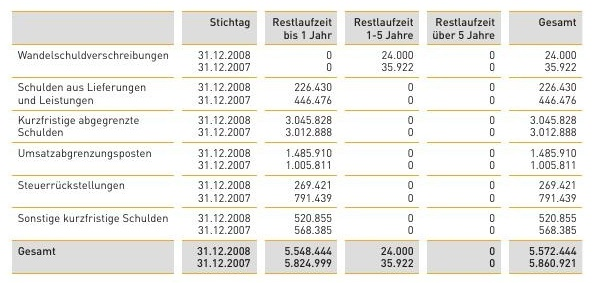table: (0, 0, 594, 283)
